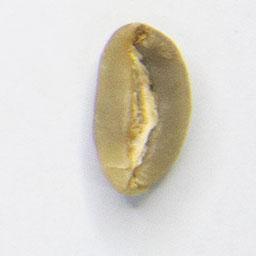longberry: (87, 19, 195, 200)
